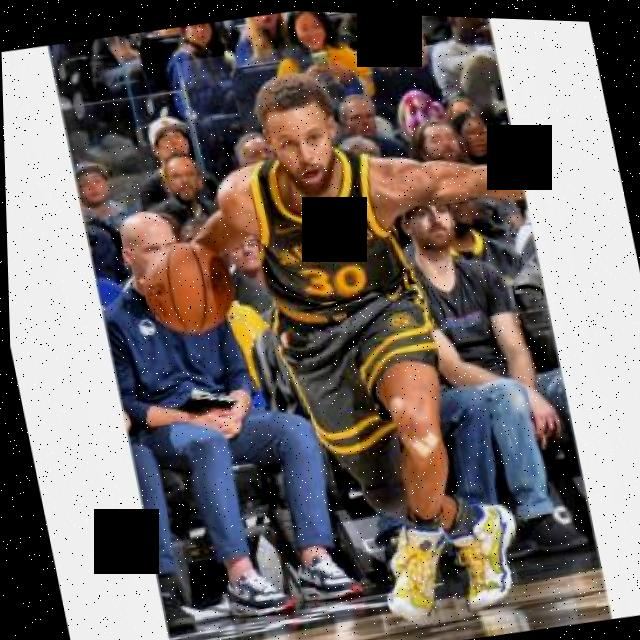shoe: (369, 511, 458, 625), (443, 493, 526, 611), (215, 553, 290, 621), (286, 540, 360, 603)
